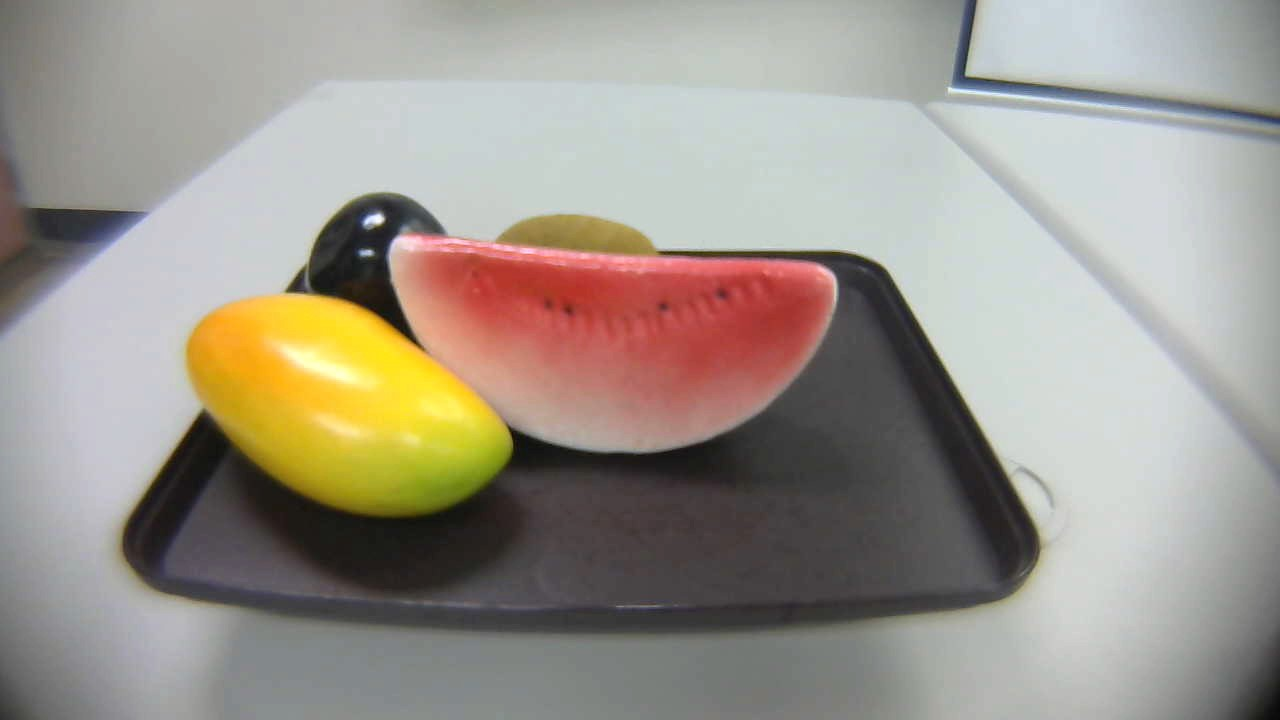kiwi fruit: (496, 209, 669, 276)
mangosteen: (307, 191, 461, 347)
water melon: (378, 221, 845, 454)
yellow mango: (180, 291, 518, 513)
